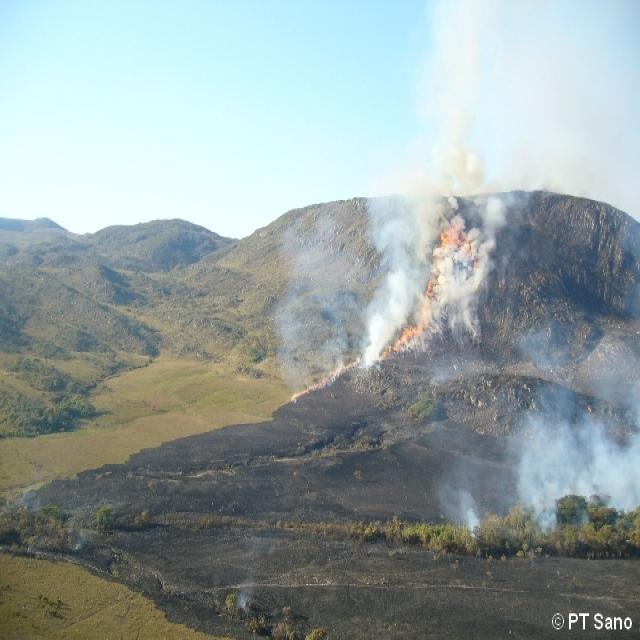Fire: (391, 237, 465, 352)
Smoke: (269, 23, 578, 406), (522, 318, 639, 524), (273, 198, 353, 398), (360, 172, 427, 396), (434, 483, 492, 538), (230, 564, 258, 616)
